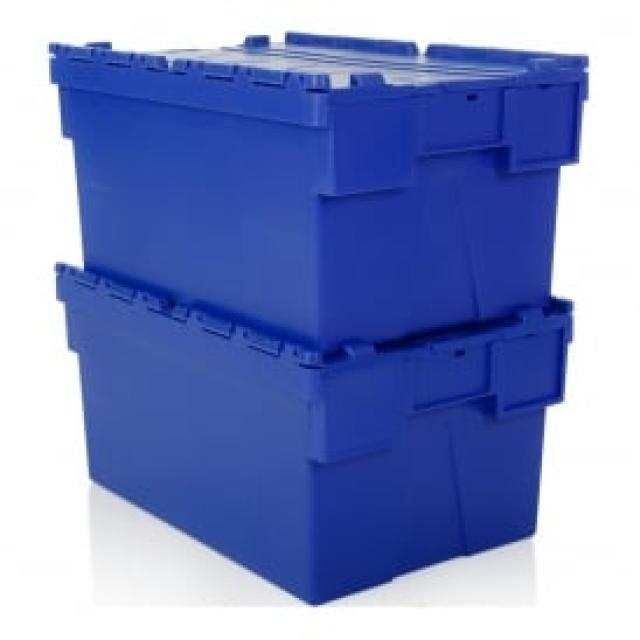basket: (29, 12, 590, 366), (37, 266, 575, 620)
